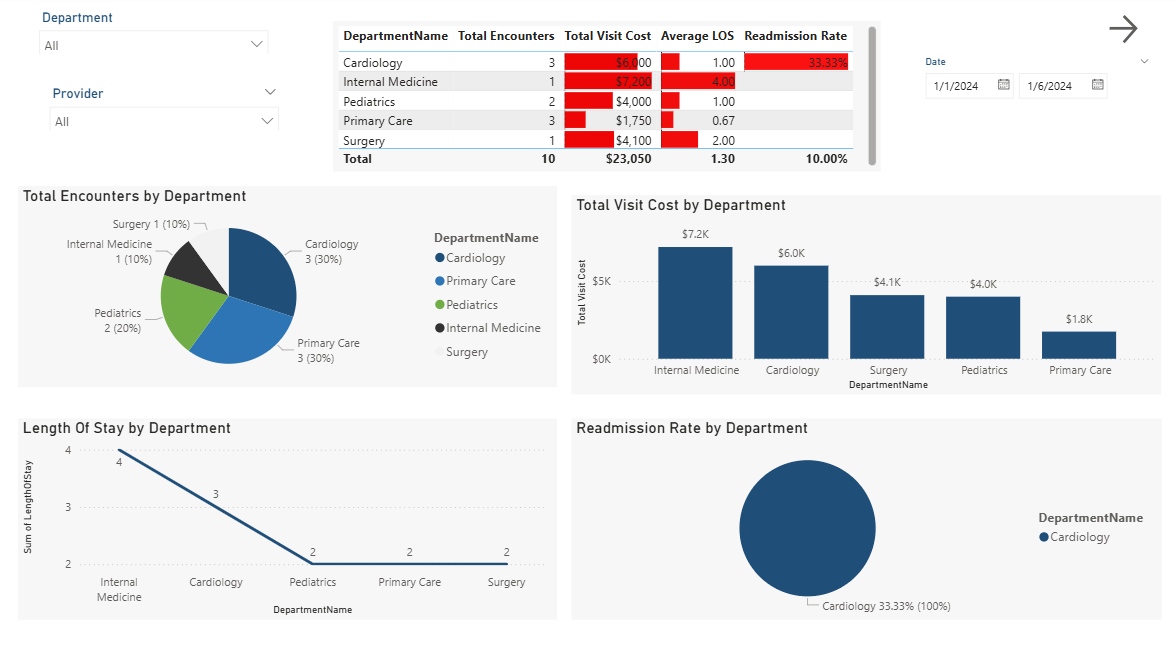

What the dashboard file says about the page in this screenshot:
{"tool":"powerbi","page":{"name":"Department Insights","canvas":[1280,720],"ordinal":3},"visuals":[{"type":"tableEx","fields":{"Values":["DimDepartment.DepartmentName","FactEncounter.Total Encounters","FactEncounter.Total Visit Cost","FactEncounter.Average LOS","FactEncounter.Readmission Rate"]},"box":[366.6,28.3,591.5,162.5],"z":0},{"type":"pieChart","title":"Total Encounters by Department","fields":{"Y":["FactEncounter.Total Encounters"],"Category":["DimDepartment.DepartmentName"]},"box":[26.5,207.9,582.1,217.3],"z":1000},{"type":"columnChart","title":"Total Visit Cost by Department","fields":{"Y":["FactEncounter.Total Visit Cost"],"Category":["DimDepartment.DepartmentName"]},"box":[623.6,217.3,636.9,215.4],"z":2000},{"type":"lineChart","title":"Length Of Stay by Department","fields":{"Y":["Sum(FactEncounter.LengthOfStay)"],"Category":["DimDepartment.DepartmentName"]},"box":[26,457.5,582,217],"z":3000},{"type":"pieChart","title":"Readmission Rate by Department","fields":{"Category":["DimDepartment.DepartmentName"],"Y":["FactEncounter.Readmission Rate"]},"box":[624,458,637,217],"z":4000},{"type":"slicer","fields":{"Values":["DimProvider.ProviderName"]},"box":[50.2,93.9,267.2,53.4],"z":5000},{"type":"slicer","fields":{"Values":["DimDepartment.DepartmentName"]},"box":[38.9,11.3,267.2,53.4],"z":6000},{"type":"slicer","fields":{"Values":["DimDate.Date"]},"box":[992.6,61.5,267.2,64.8],"z":7000},{"type":"actionButton","box":[1198.2,17.8,59.9,40.5],"z":8000}]}

Visuals, with their boxes in screenshot pixels (x1, y1, x2, y2), scaled from the page's 1280x720 canvas onto the 1176x648 screenshot:
tableEx - DimDepartment.DepartmentName x FactEncounter.Total Encounters: locate(337, 25, 880, 172)
"Total Encounters by Department" pieChart: locate(24, 187, 559, 383)
"Total Visit Cost by Department" columnChart: locate(573, 196, 1158, 389)
"Length Of Stay by Department" lineChart: locate(24, 412, 559, 607)
"Readmission Rate by Department" pieChart: locate(573, 412, 1159, 608)
slicer - DimProvider.ProviderName: locate(46, 85, 292, 133)
slicer - DimDepartment.DepartmentName: locate(36, 10, 281, 58)
slicer - DimDate.Date: locate(912, 55, 1157, 114)
actionButton: locate(1101, 16, 1156, 52)
